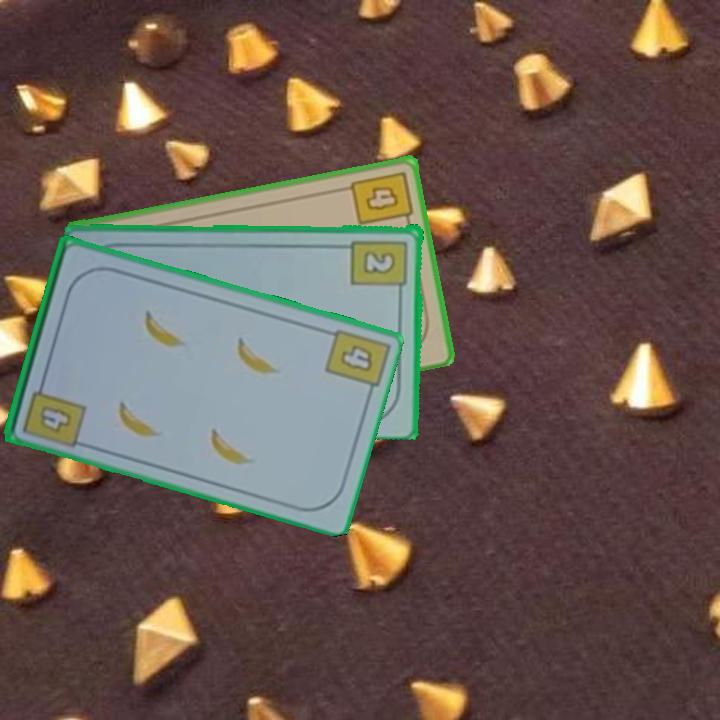2b: (349, 237, 410, 298)
4b: (19, 374, 88, 447), (347, 167, 415, 230), (337, 340, 377, 375)
